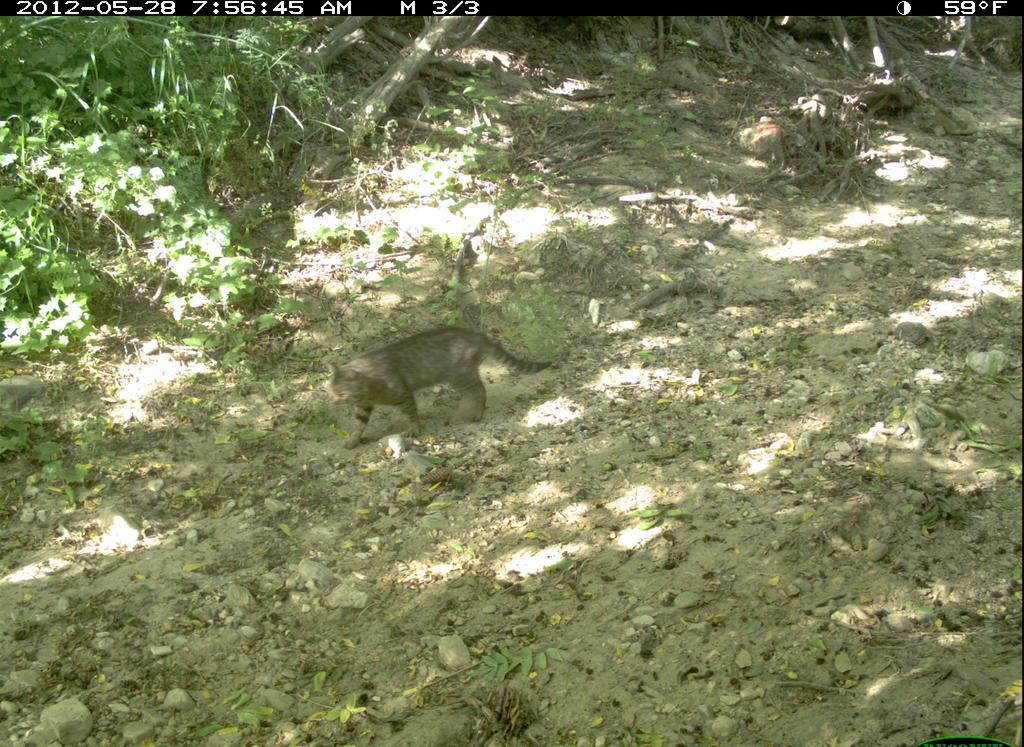cat: (322, 324, 564, 451)
